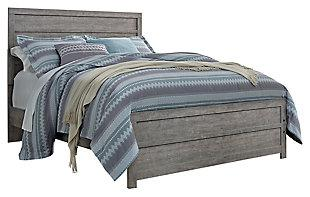bed: (4, 4, 303, 197)
